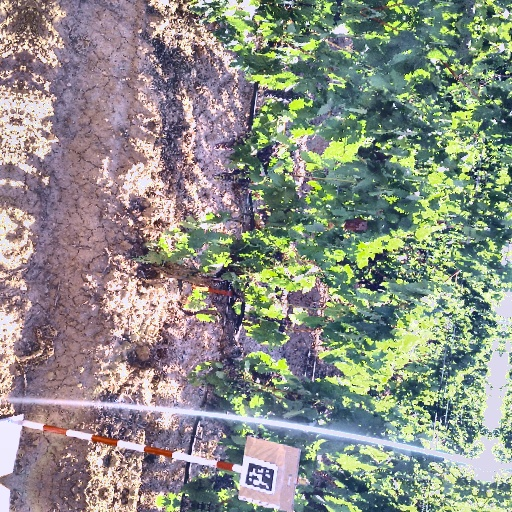QR: (245, 465, 274, 490)
